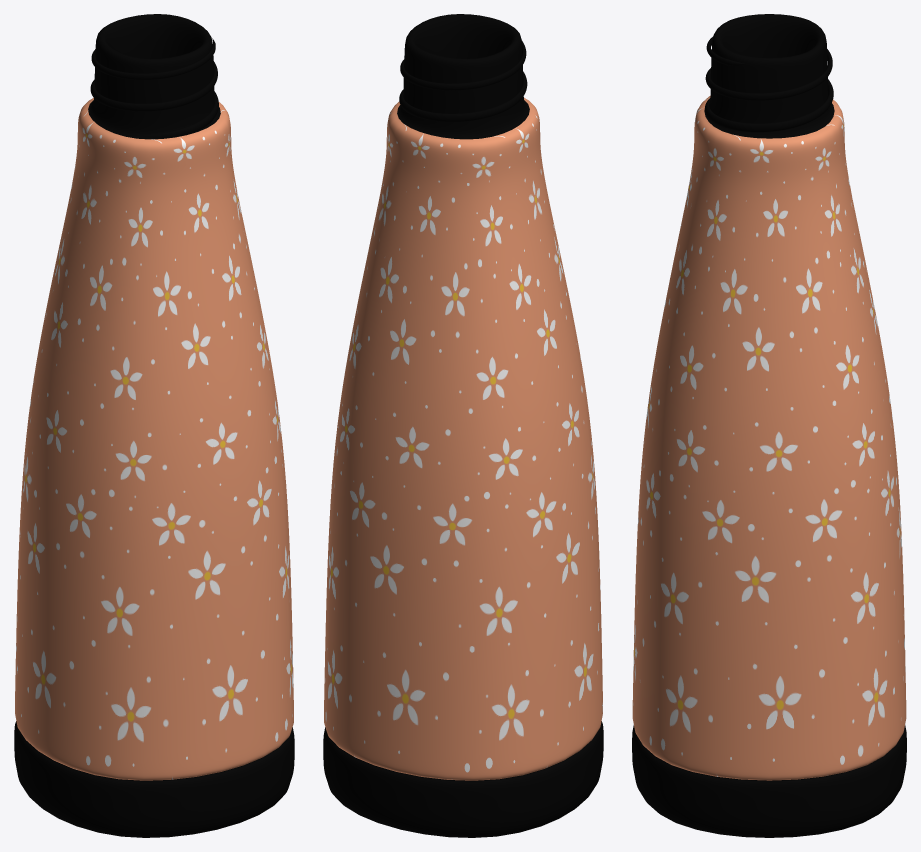
The model's file is Flasche1MaterialTest.fbx.
3 renders of one model, left to right at view 1: azimuth 30°, elevation 25°; view 2: azimuth 150°, elevation 25°; view 3: azimuth 270°, elevation 25°, orthographic.
Visible parts, largest first — view 1: Cube, Sweep; view 2: Cube, Sweep; view 3: Cube, Sweep.
Boxes of the visible parts, x1,y1,x2,y2 form: Cube: (14,14,294,837); Sweep: (90,38,218,137); Cube: (323,14,603,837); Sweep: (399,41,527,121); Cube: (632,14,906,837); Sweep: (704,36,833,132).
Bounding box in the file's own units: 9.69 × 29.25 × 9.69.
Materials: 2 (1 with a texture image).
